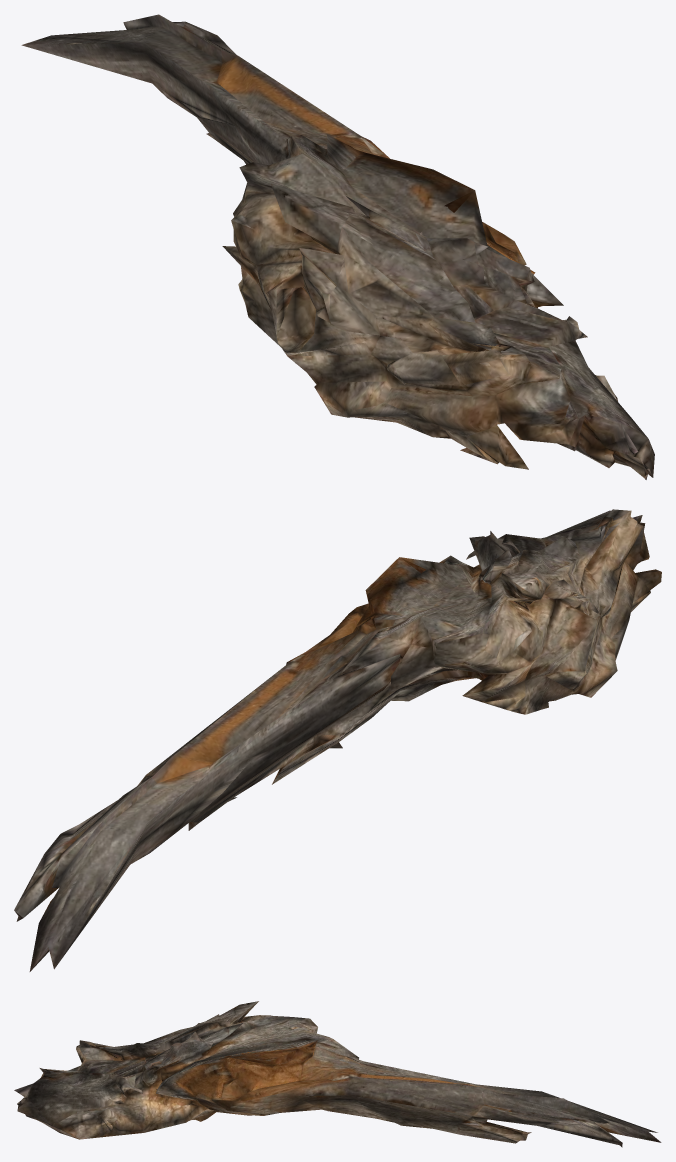
Rendered from bark_debris_01_c_LOD1.glb.
3 renders of one model, top to bottom at view 1: azimuth 30°, elevation 25°; view 2: azimuth 150°, elevation 25°; view 3: azimuth 270°, elevation 25°, orthographic. The views are drawn at different scales.
Parts seen in each view (by area): view 1: bark_debris_01_c_LOD1__lodS; view 2: bark_debris_01_c_LOD1__lodS; view 3: bark_debris_01_c_LOD1__lodS.
Boxes of the visible parts, <box> form: bark_debris_01_c_LOD1__lodS: <box>21,14,654,479</box>; bark_debris_01_c_LOD1__lodS: <box>14,509,661,971</box>; bark_debris_01_c_LOD1__lodS: <box>14,1001,661,1147</box>.
Size of what is drawn, in the model's own units: 0.144 by 0.0957 by 0.5667.
1 material, 1 textured.
